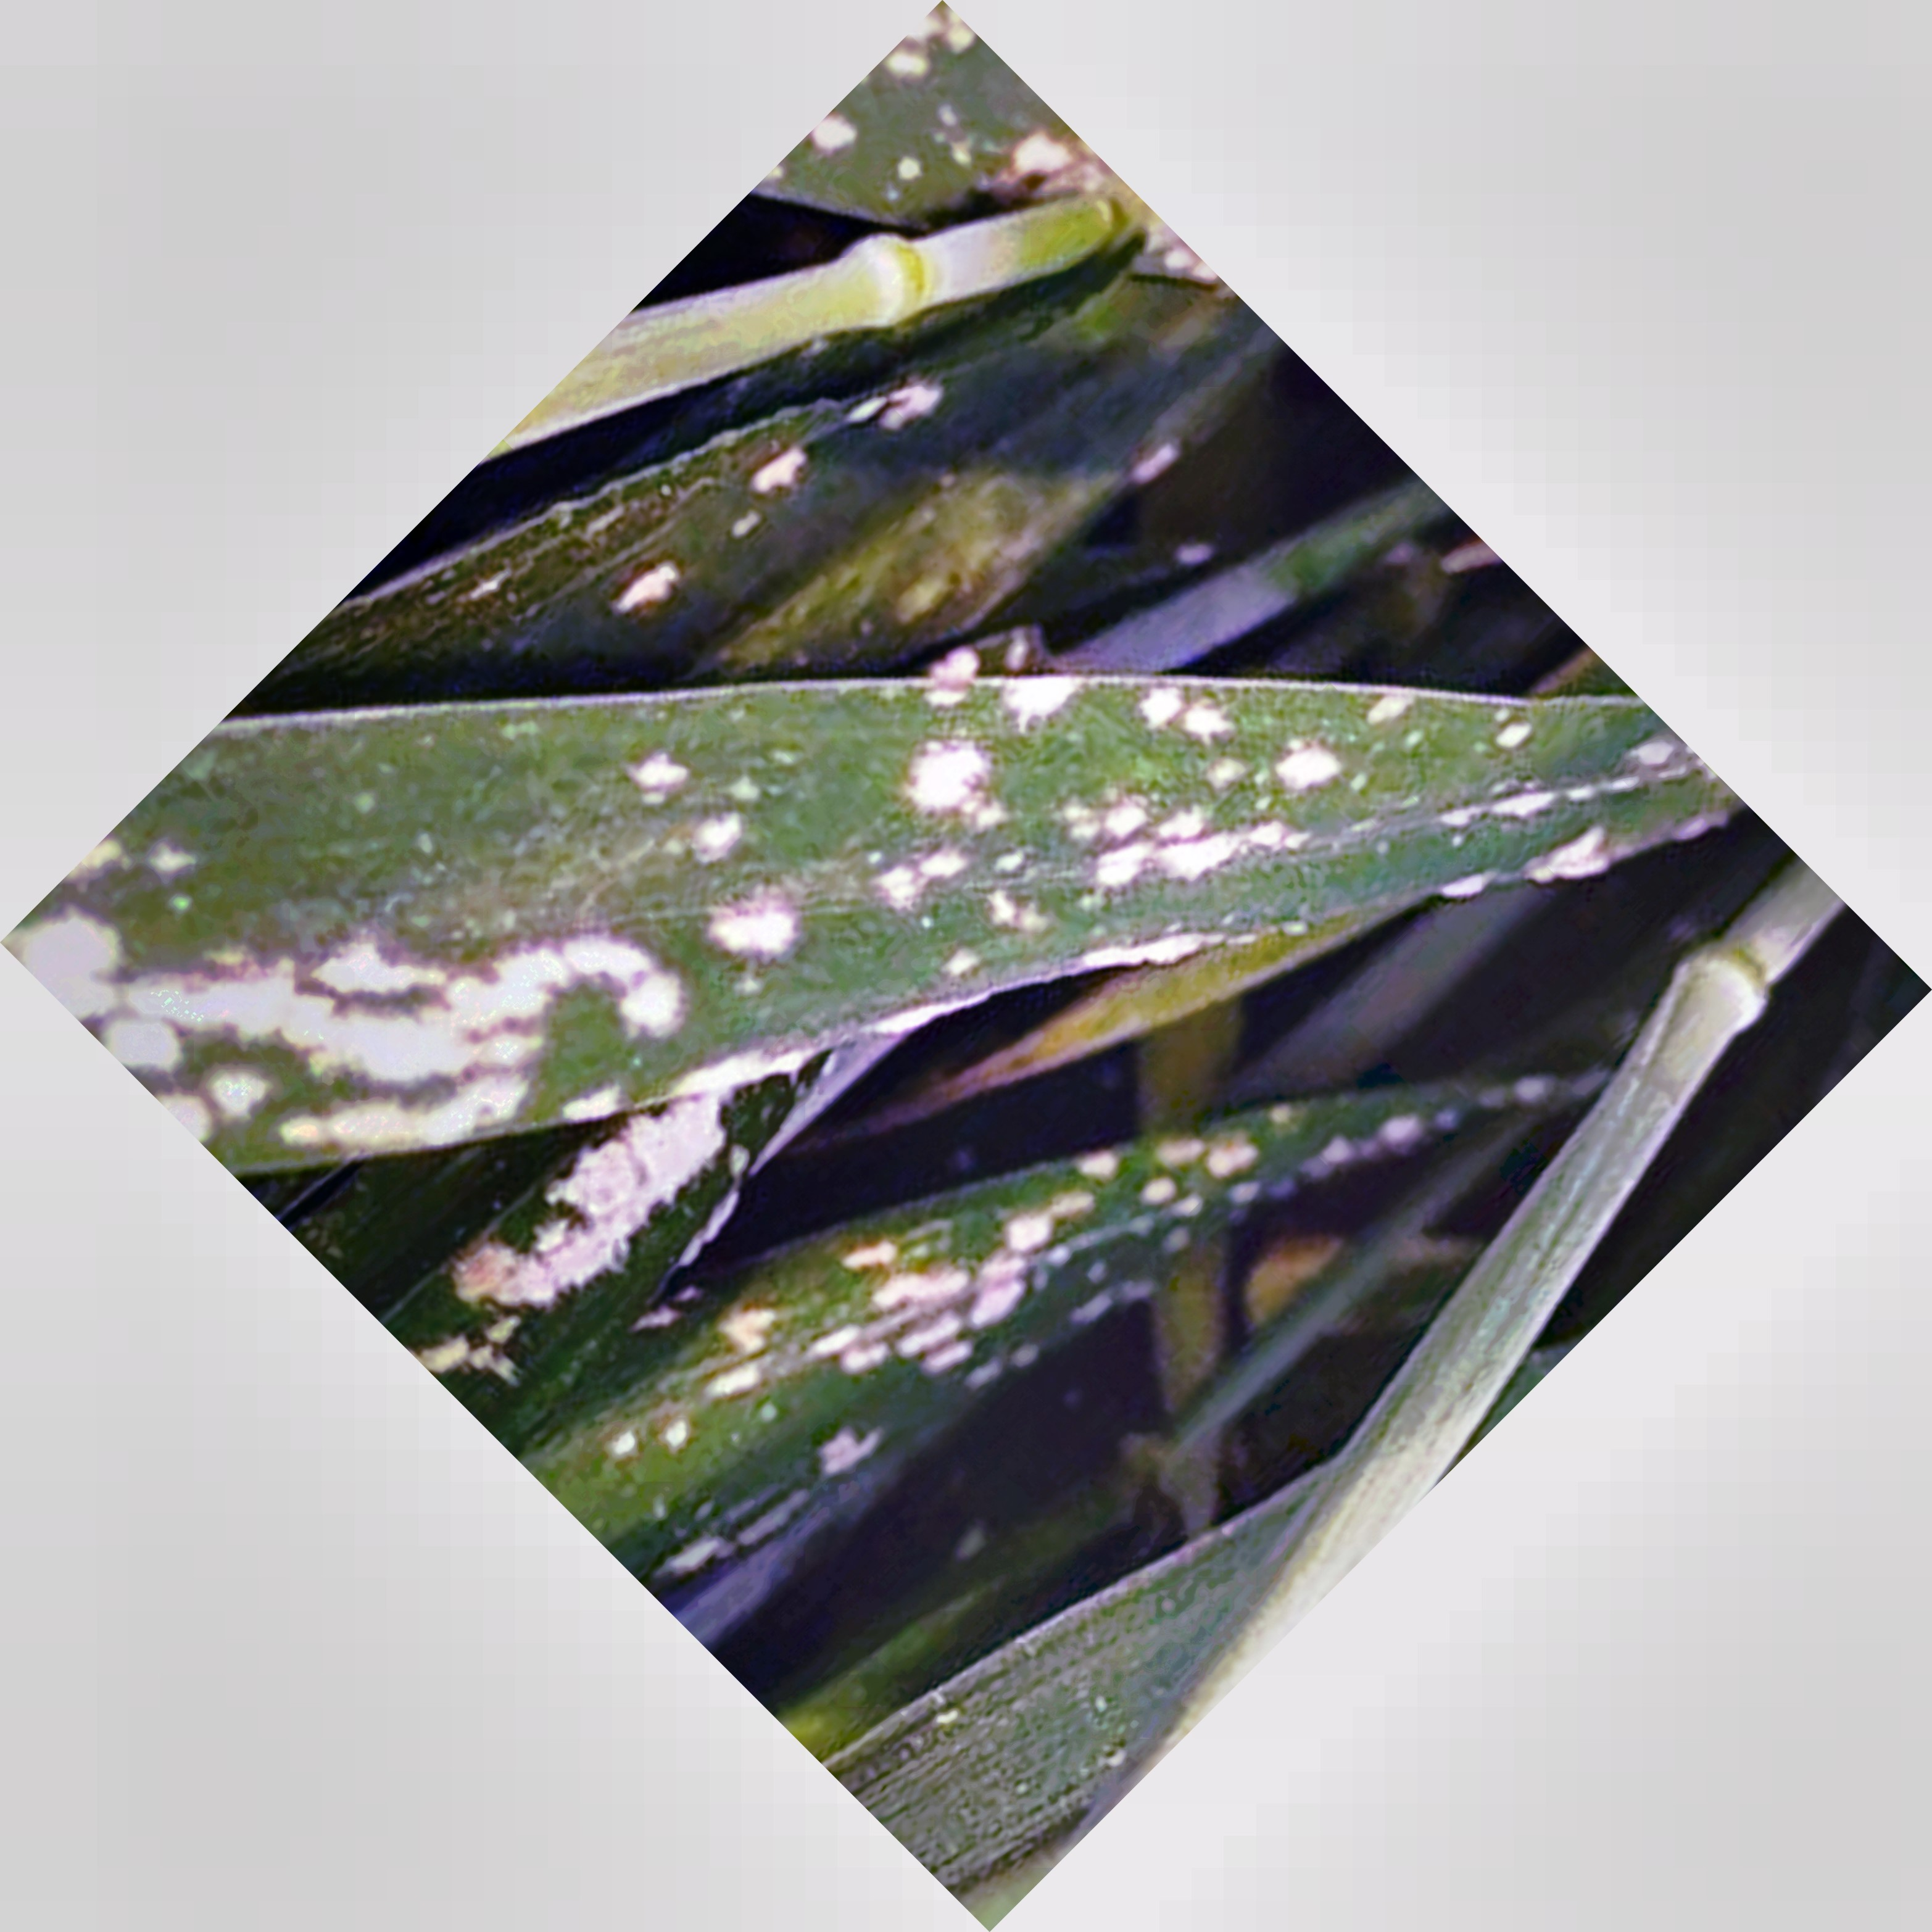Powdery Mildew: (283, 649, 1527, 1444)
